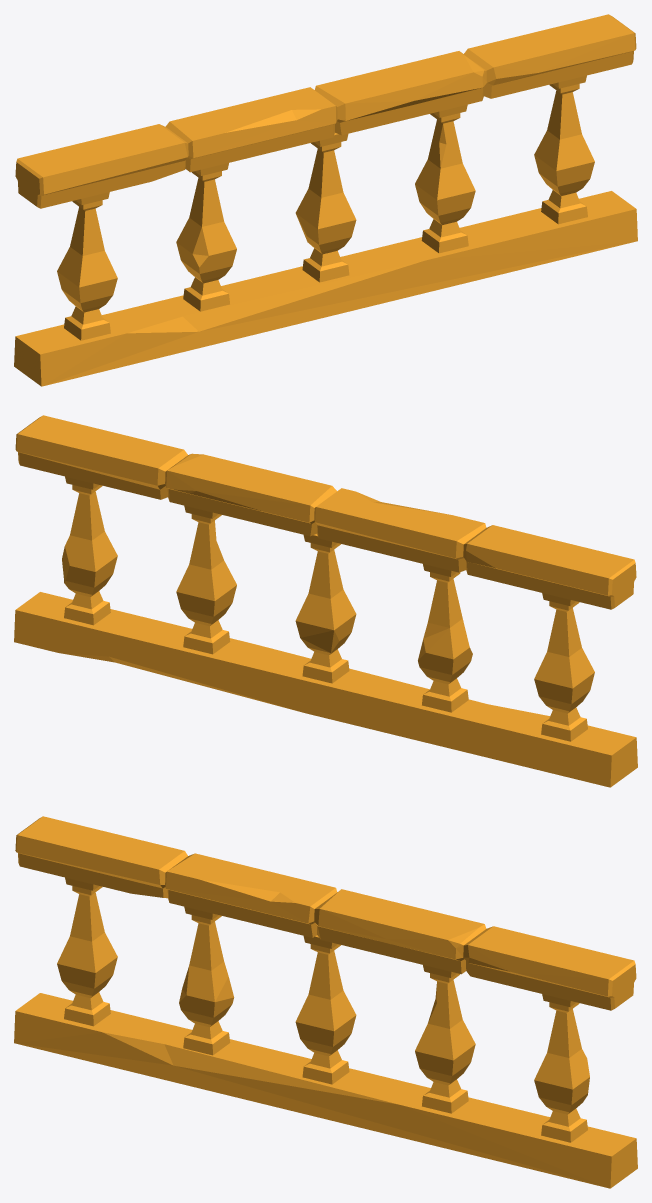
File: SM_Railing_Stone_3m_A_Fantasy.fbx
The picture shows the model from 3 angles, top to bottom: view 1: azimuth 30°, elevation 25°; view 2: azimuth 150°, elevation 25°; view 3: azimuth 330°, elevation 25°; orthographic projection.
Parts seen in each view (by area): view 1: SM_Railing_Stone_3m_A_Fantasy; view 2: SM_Railing_Stone_3m_A_Fantasy; view 3: SM_Railing_Stone_3m_A_Fantasy.
Boxes of the visible parts, left/top/right/bottom form: SM_Railing_Stone_3m_A_Fantasy: left=14, top=14, right=637, bottom=386; SM_Railing_Stone_3m_A_Fantasy: left=14, top=415, right=637, bottom=787; SM_Railing_Stone_3m_A_Fantasy: left=14, top=816, right=637, bottom=1188.
Bounding box in the file's own units: 3 × 1 × 0.24.
